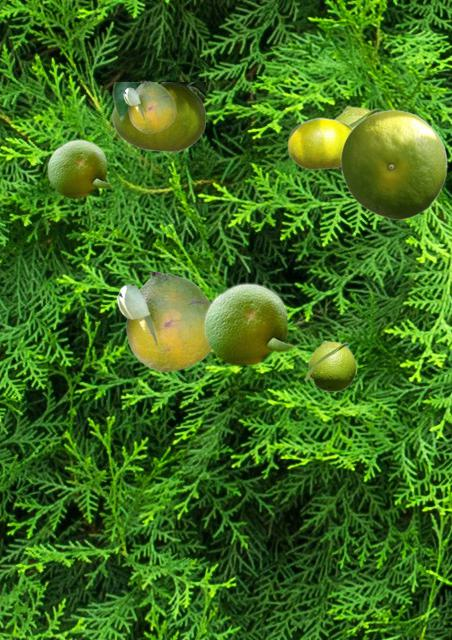dalandan: (340, 109, 446, 219), (116, 272, 210, 371), (202, 281, 294, 366), (112, 82, 204, 151), (46, 138, 111, 198), (287, 117, 352, 169), (334, 105, 380, 171), (123, 81, 175, 132), (304, 340, 356, 391)
